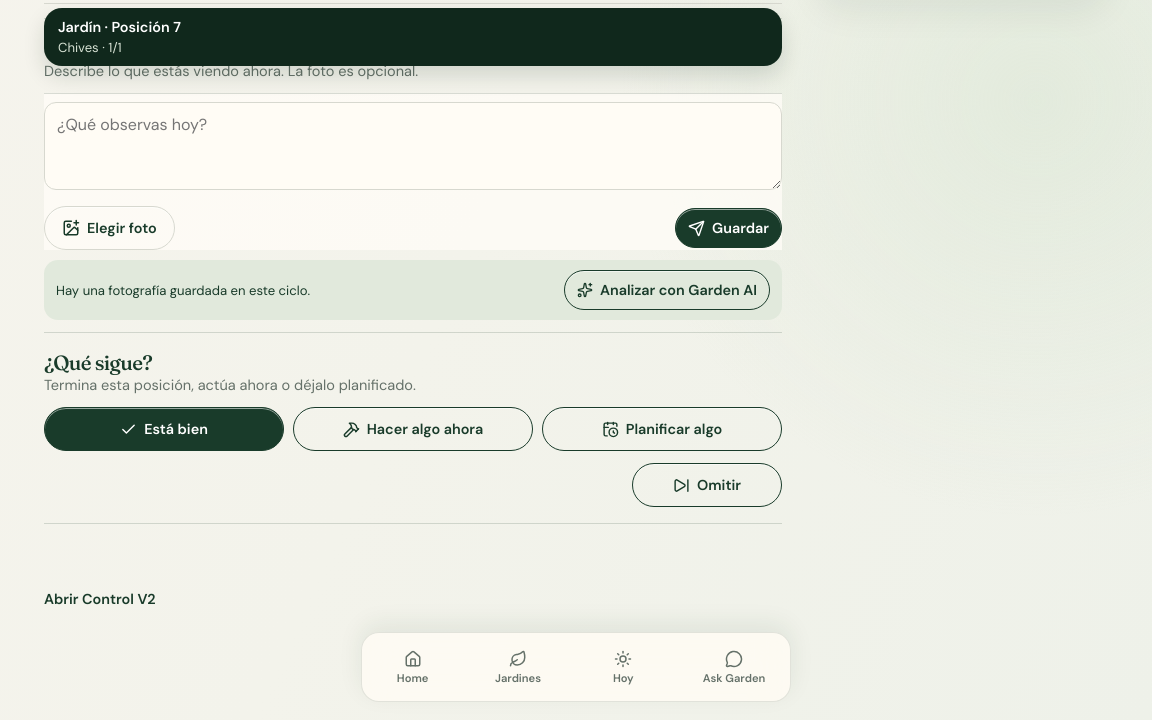
Test: Maintenance confirmed feedback › labels skip as omitted without a review
This screenshot has width=1152, height=720.
(page scrolled)
Step 1. Click the button "Omitir" → (707, 485), box [632,463,782,507]
(page scrolled)
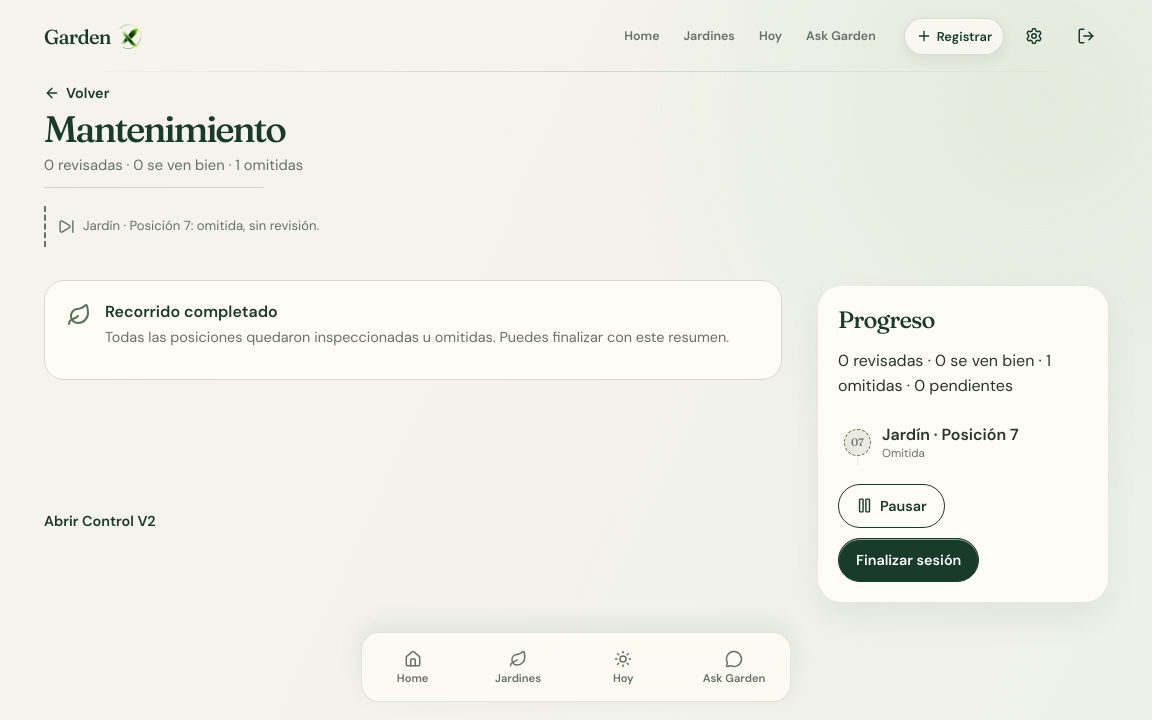
Result: the text "Jardín · Posición 7: omitida, sin revisión." is shown at [44,206,1108,247]
